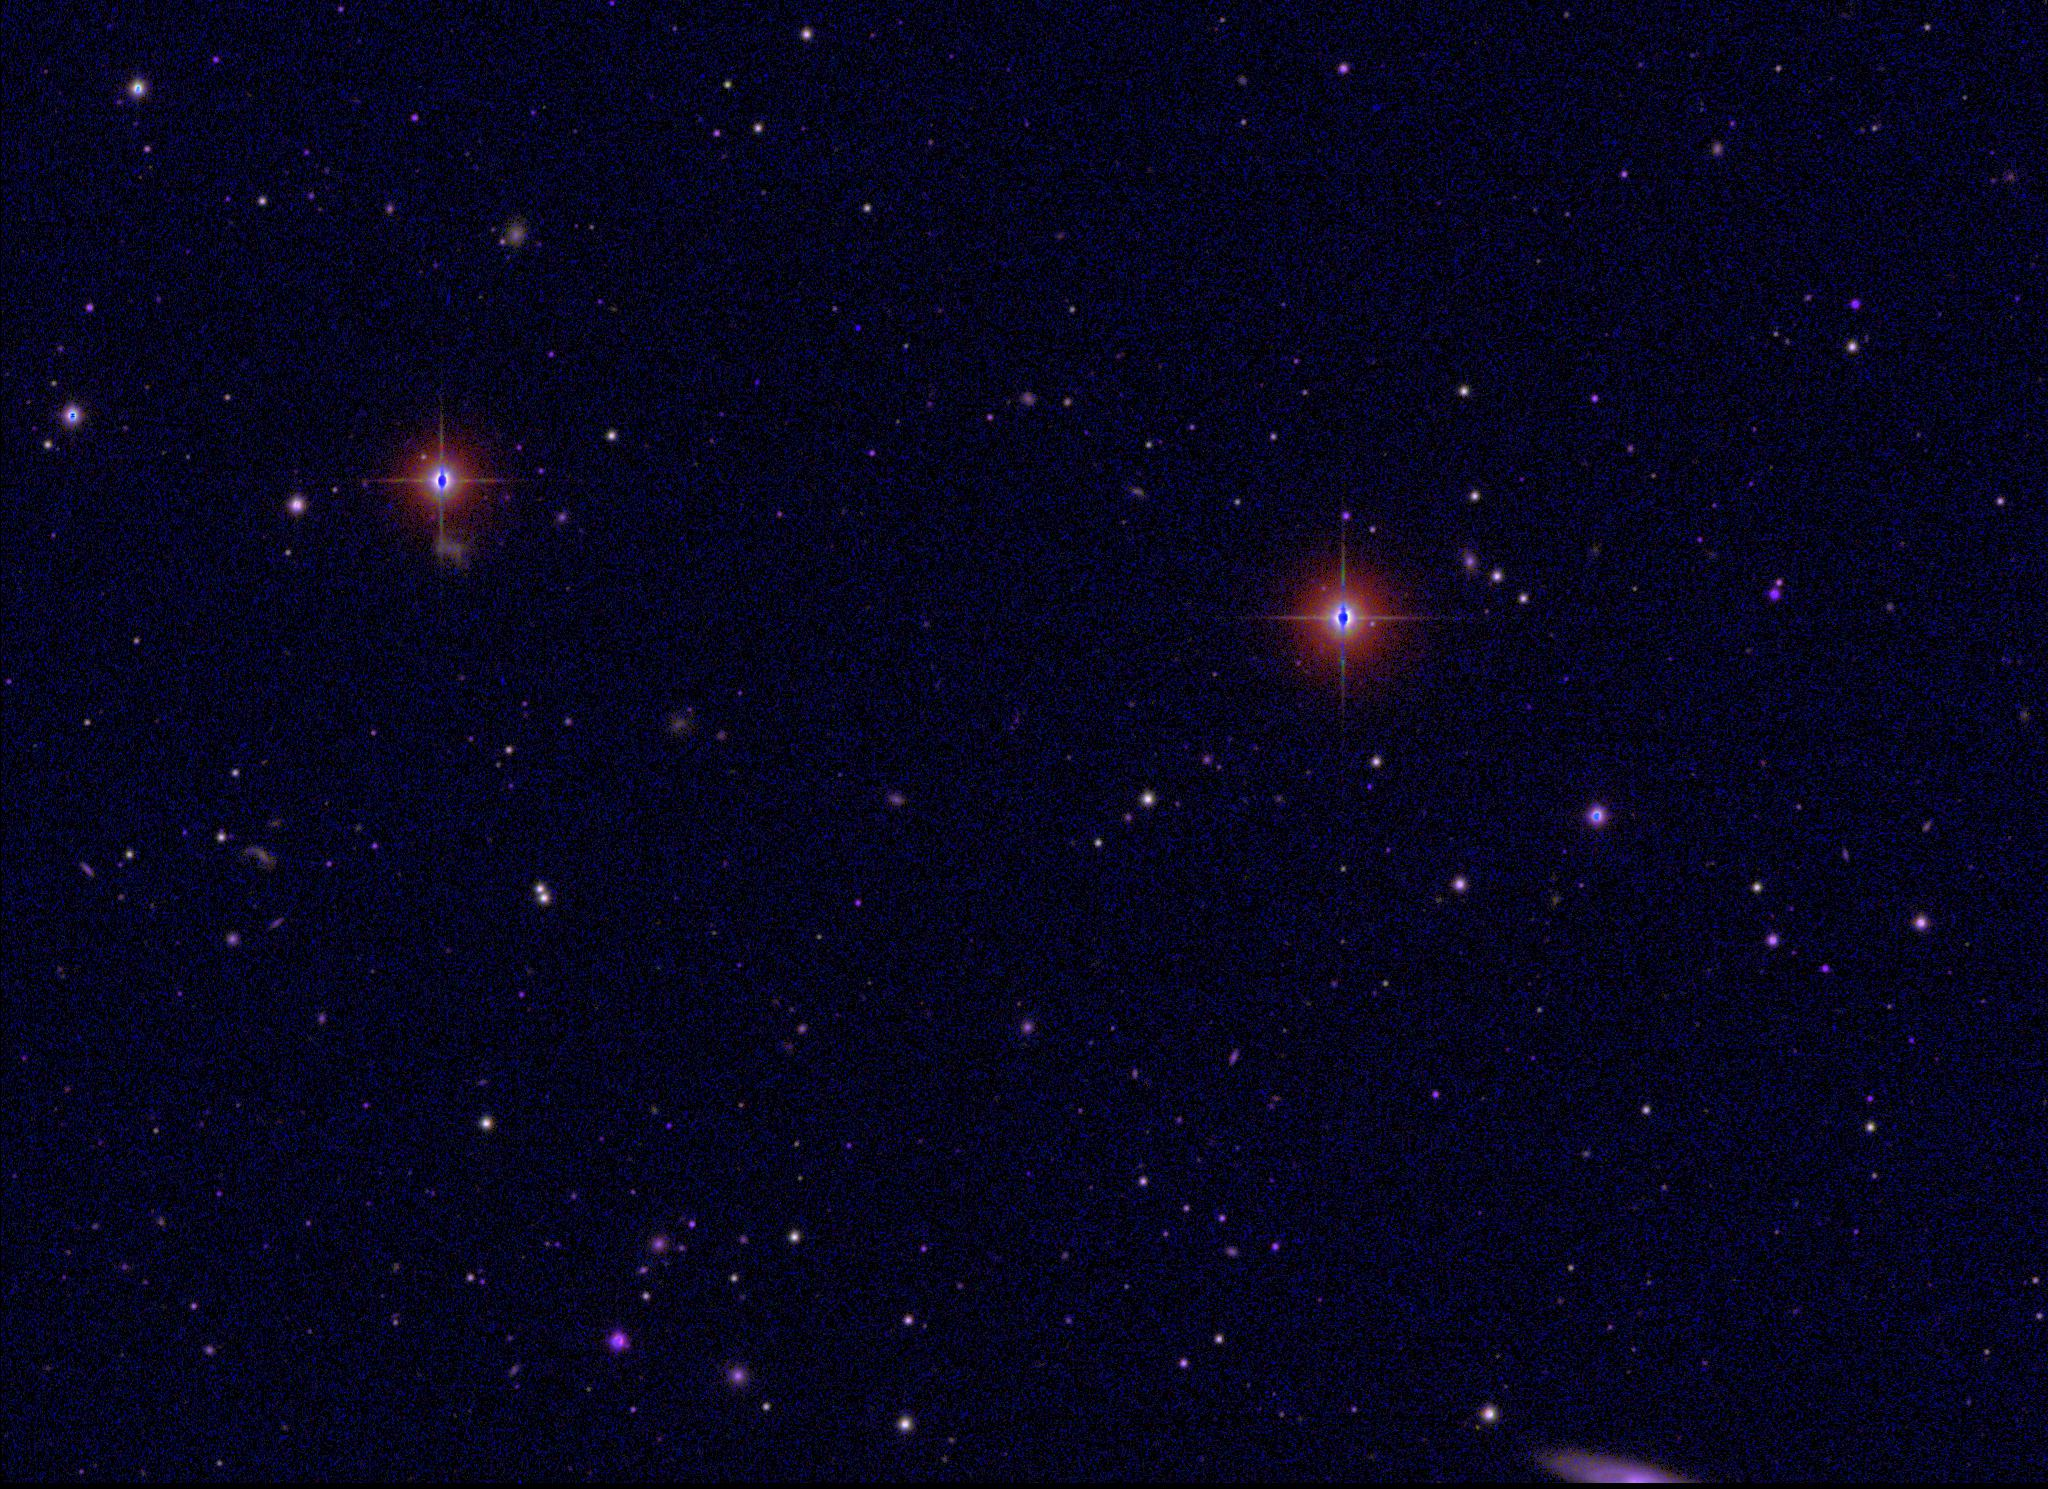L: (851, 321, 865, 336)
